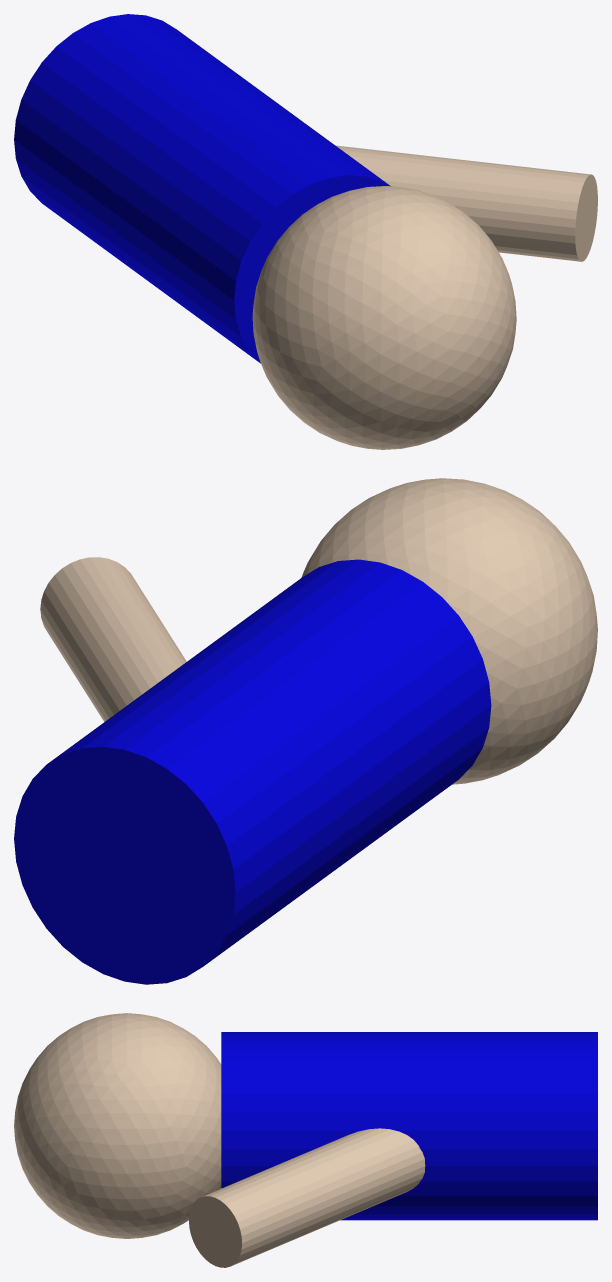
Rendered from character.glb.
3 views of the same model, one above another, from view 1: azimuth 30°, elevation 25°; view 2: azimuth 150°, elevation 25°; view 3: azimuth 270°, elevation 25° (orthographic). The views are drawn at different scales.
Parts seen in each view (by area): view 1: world; view 2: world; view 3: world.
Boxes of the visible parts, x1,y1,x2,y2 form: world: (14,14,597,449); world: (14,478,597,984); world: (14,1013,597,1267).
Bounding box in the file's own units: 2.07 × 1.2 × 3.1.
